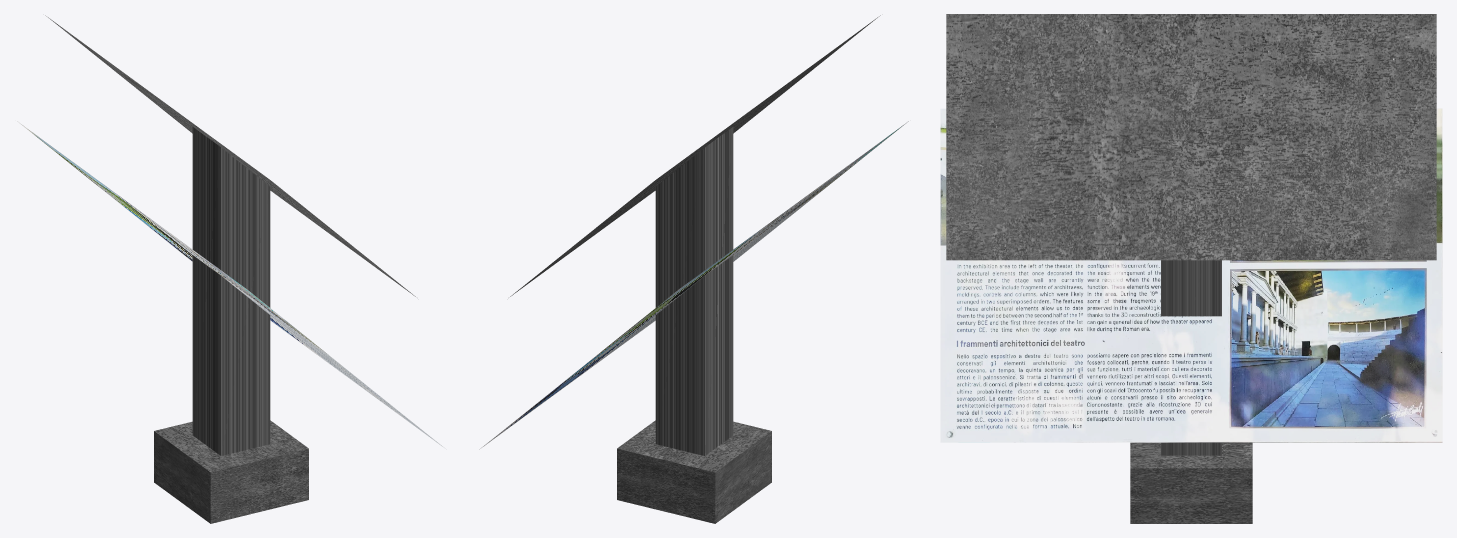
File: PTeatro.glb
The picture shows the model from 3 angles, left to right: view 1: azimuth 30°, elevation 25°; view 2: azimuth 150°, elevation 25°; view 3: azimuth 270°, elevation 25°; orthographic projection. The views are drawn at different scales.
Parts seen in each view (by area): view 1: Cube, Plane; view 2: Cube, Plane; view 3: Cube, Plane.
Boxes of the visible parts, left/top/right/bottom form: Cube: left=45, top=15, right=415, bottom=523; Plane: left=17, top=121, right=446, bottom=449; Cube: left=510, top=15, right=880, bottom=523; Plane: left=479, top=121, right=908, bottom=449; Cube: left=946, top=14, right=1436, bottom=523; Plane: left=940, top=108, right=1442, bottom=442.
Size of the model in its own units: 134385 by 262544 by 268689.
2 materials, 2 textured.
